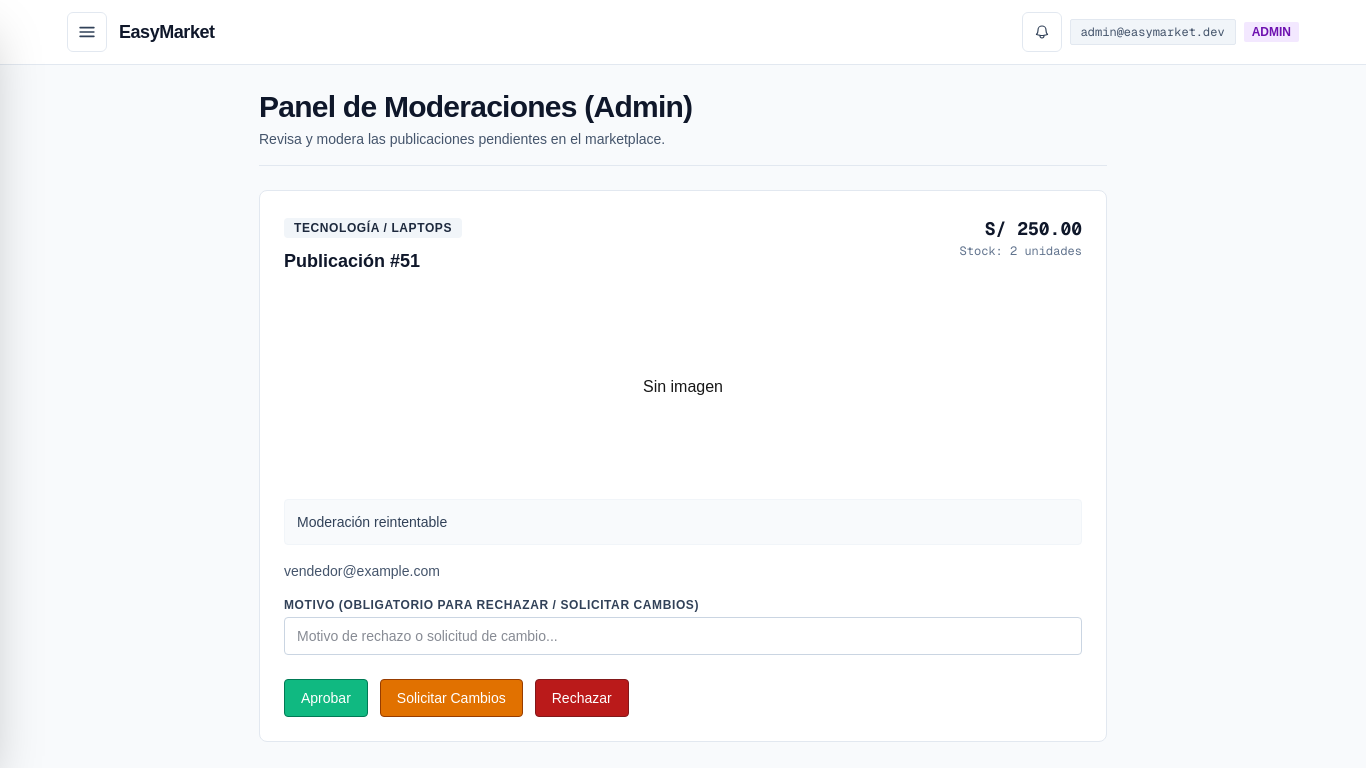
Test: PHA06TSK13-L02 - cobertura administrativa requerida › permite reintentar moderación tras error HTTP y muta la fila solo después del éxito
Type "Mover categoría" into the field labelled "Motivo (Obligatorio para Rechazar / Solicitar Cambios)" at (683, 636), box [284, 617, 1082, 655]
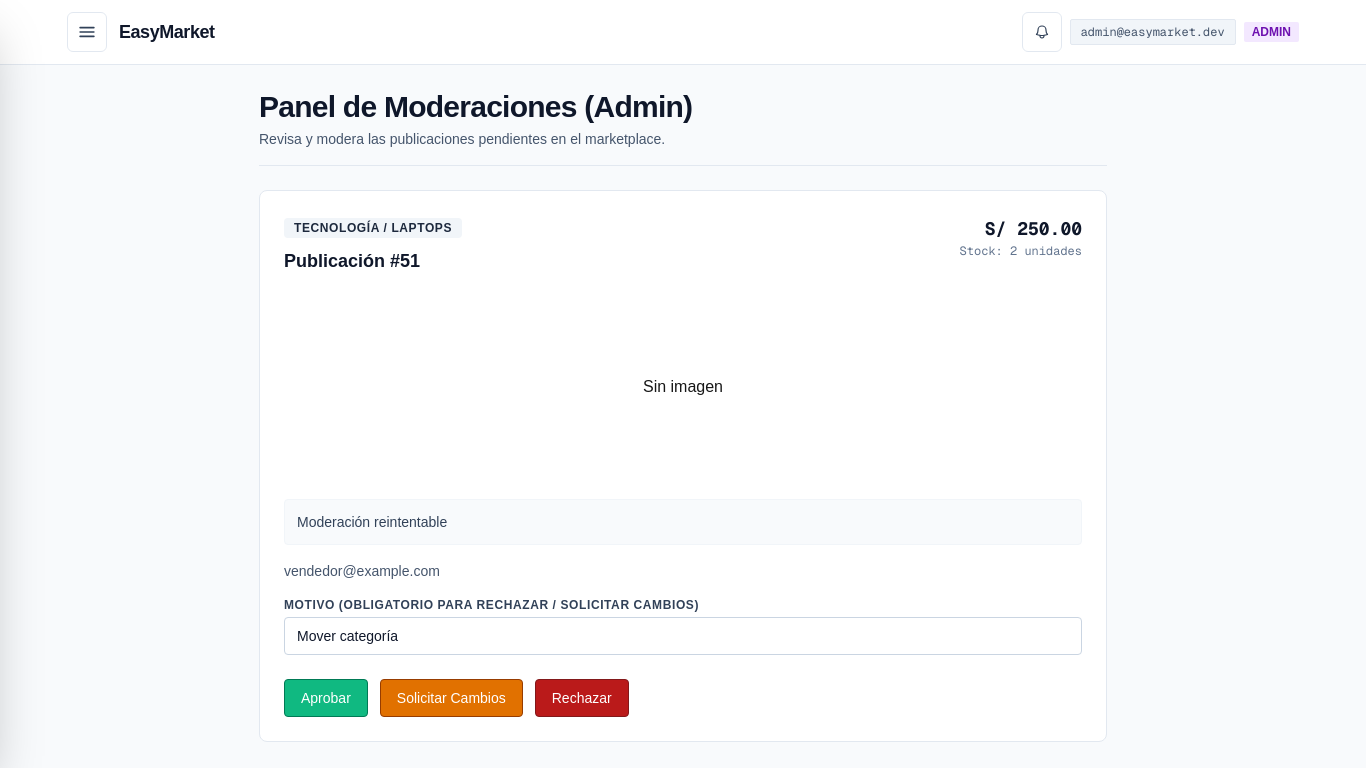
Click the button "Solicitar Cambios" at (451, 698), box [380, 679, 523, 717]
(page scrolled)
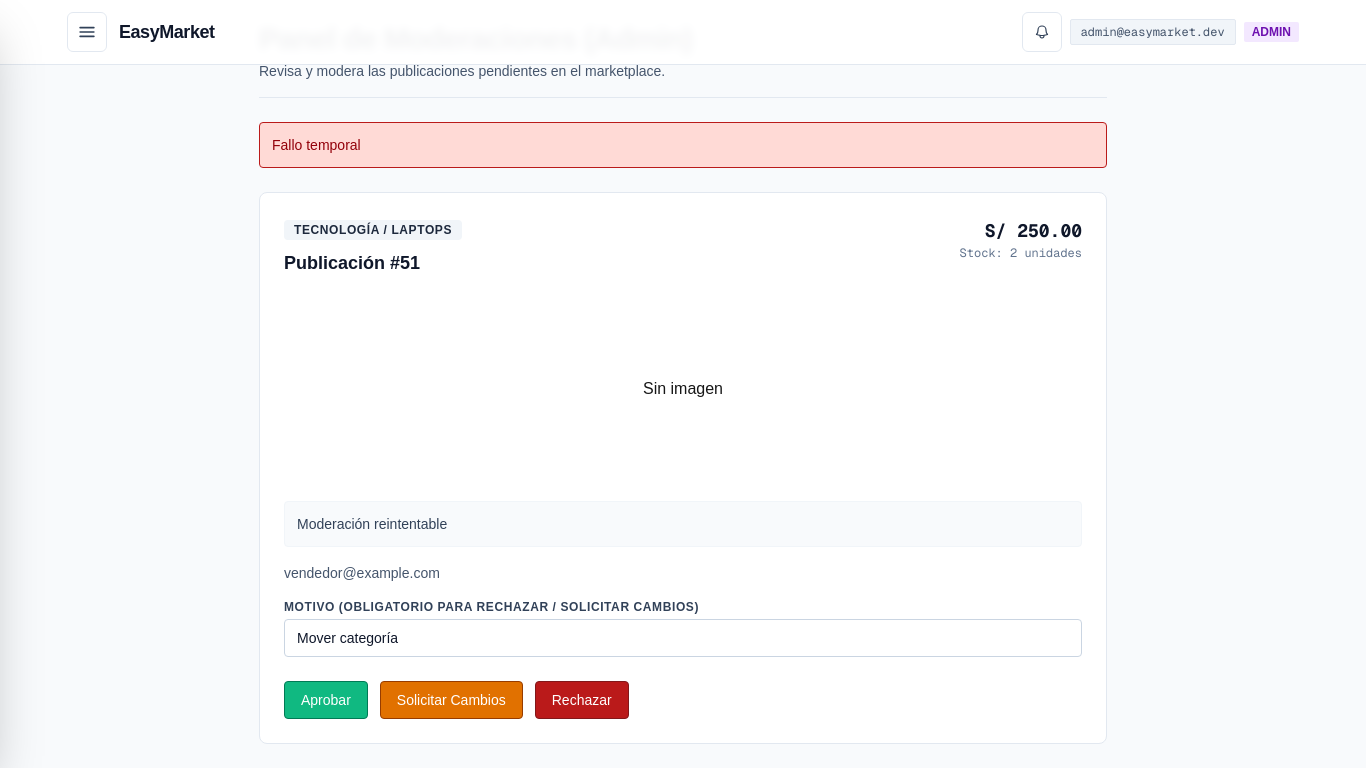
Expected: the text "Moderación reintentable" is shown, [284, 501, 1082, 547]
Now the text "Fallo temporal" is shown, box [259, 122, 1107, 168]
Click the button "Solicitar Cambios" at (451, 700), box [380, 681, 523, 719]
(page scrolled)
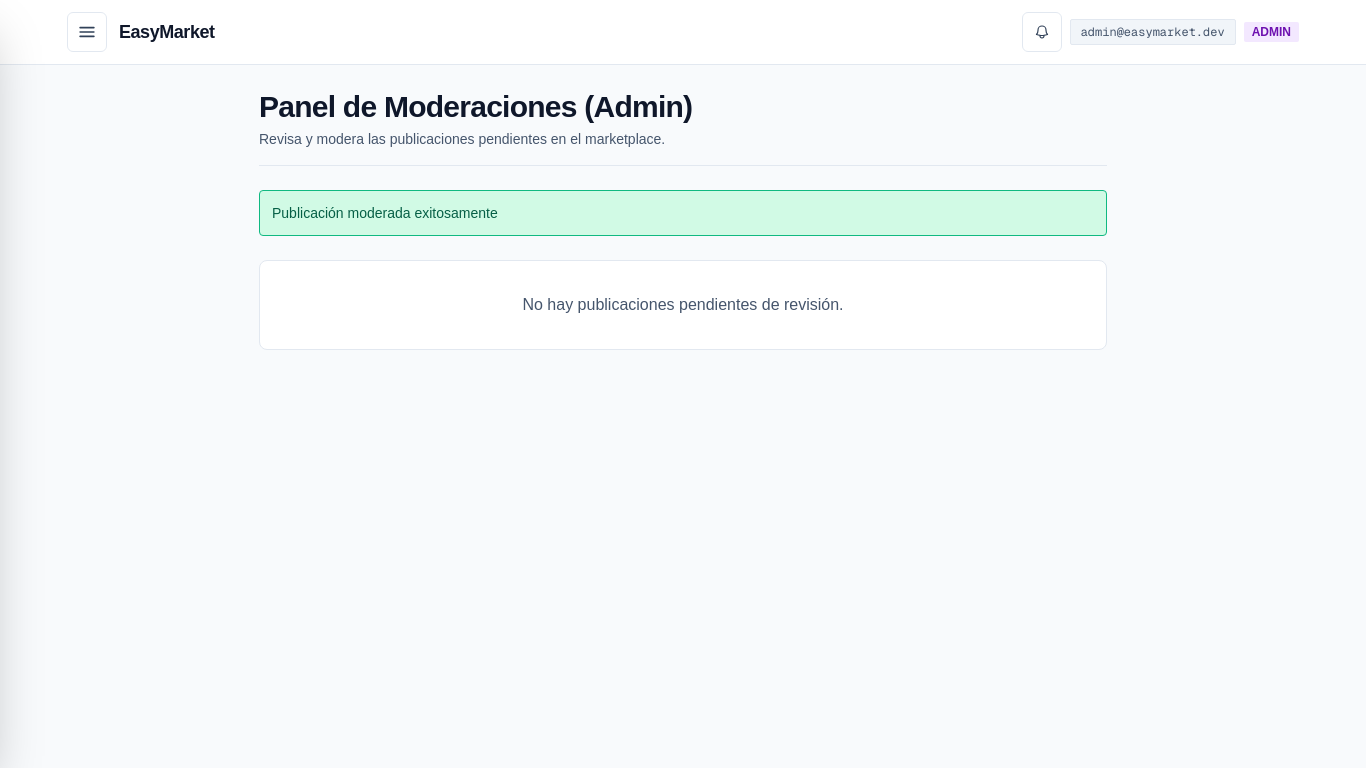
Now the text "Publicación moderada exitosamente" is shown, box [259, 190, 1107, 236]
Now the text "Moderación reintentable" is gone
